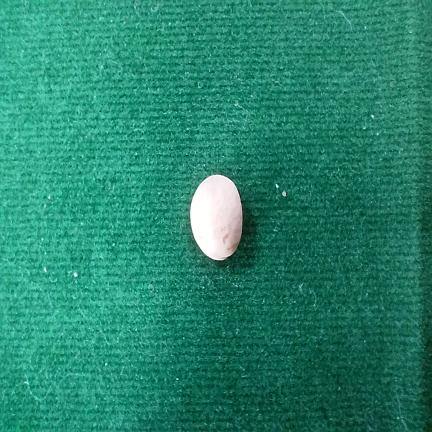husk: (190, 175, 242, 260)
